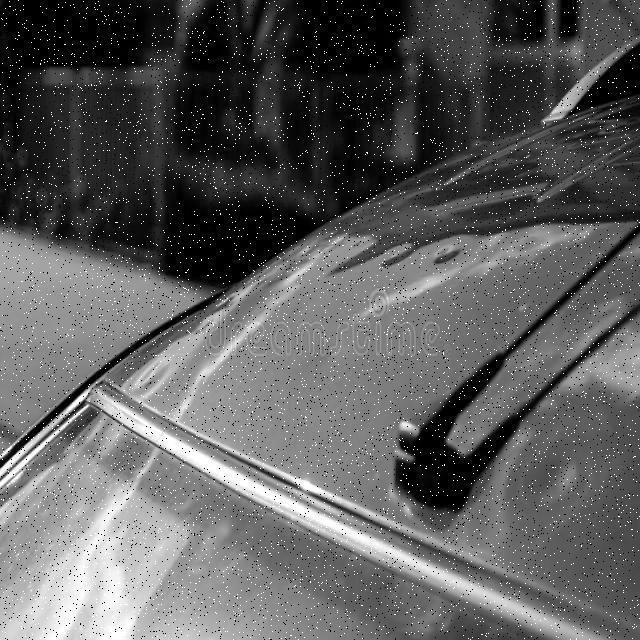roof-dent: (148, 190, 501, 612), (491, 138, 617, 550)
